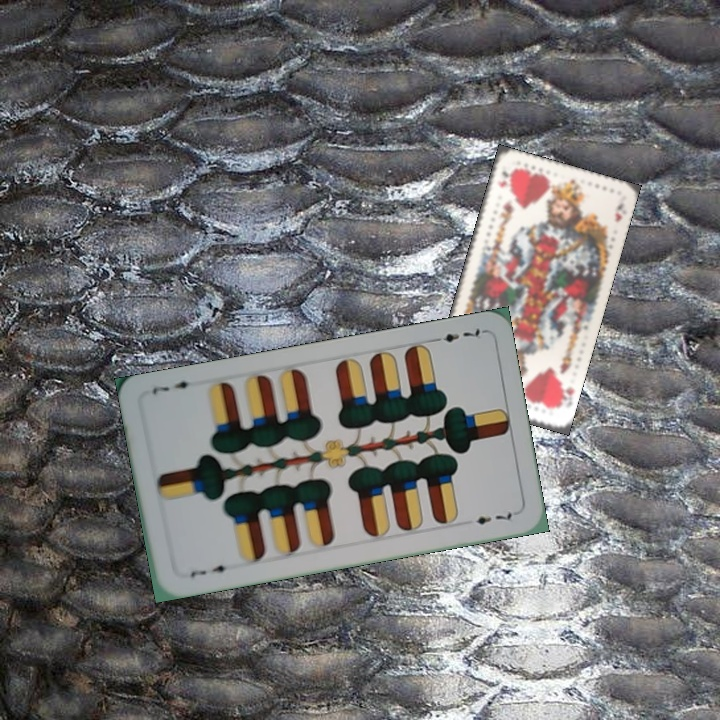E7: (427, 325, 487, 345), (186, 561, 235, 581)
HK: (494, 162, 515, 190), (557, 379, 577, 401)
